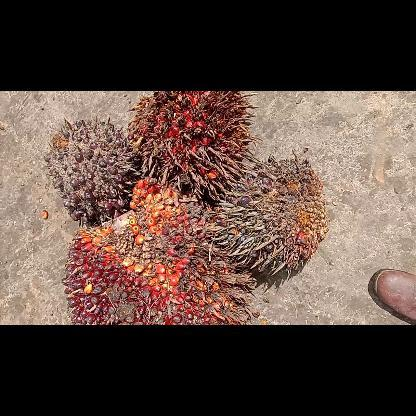Kurang masak: (127, 91, 250, 195), (44, 117, 136, 225)
TBS abnormal: (212, 152, 328, 275)
TBS masak: (64, 176, 254, 324)
